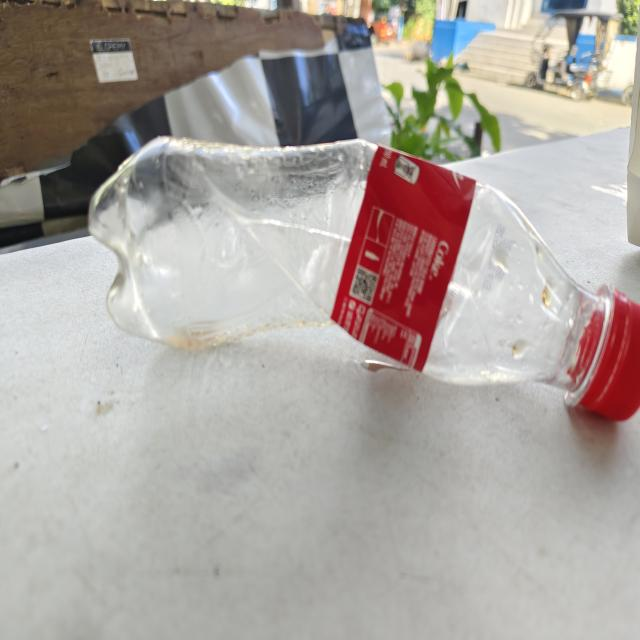Bottle: (89, 137, 640, 420)
